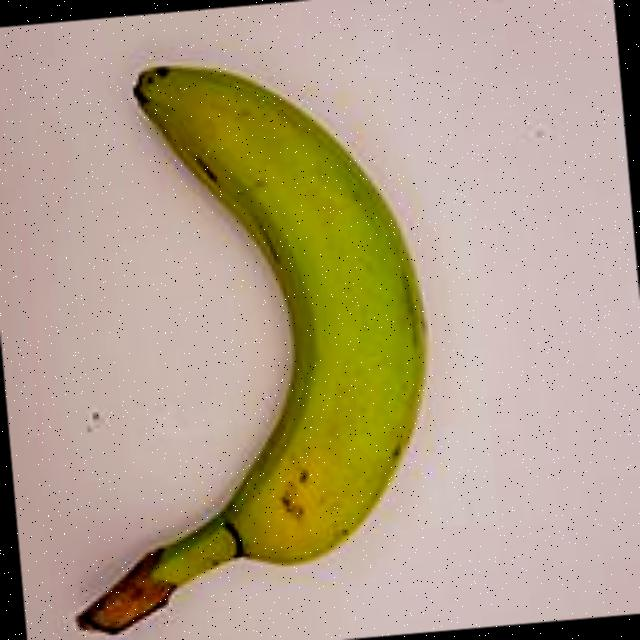Unripe: (0, 12, 463, 640)
